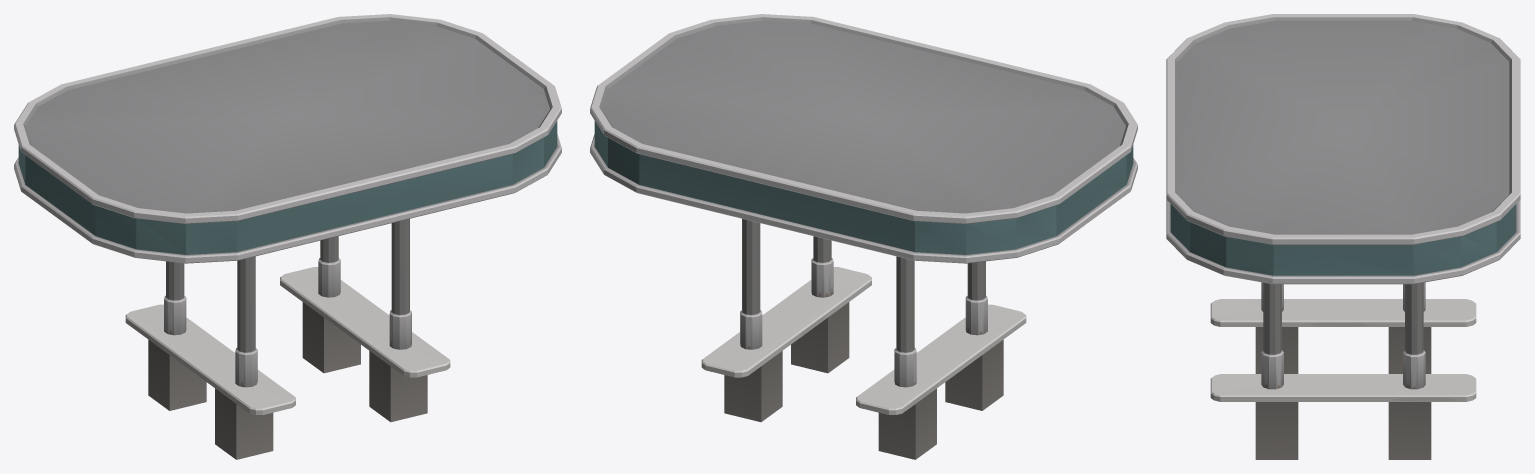
File: canopy.glb
The picture shows the model from 3 angles, left to right: view 1: azimuth 30°, elevation 25°; view 2: azimuth 150°, elevation 25°; view 3: azimuth 270°, elevation 25°; orthographic projection.
Visible parts, largest first — view 1: canopy.001; view 2: canopy.001; view 3: canopy.001.
Boxes of the visible parts, x1,y1,x2,y2 form: canopy.001: (14,14,561,459); canopy.001: (590,14,1137,459); canopy.001: (1166,14,1520,459).
Size of the model in its own units: 12 by 7.16 by 8.
